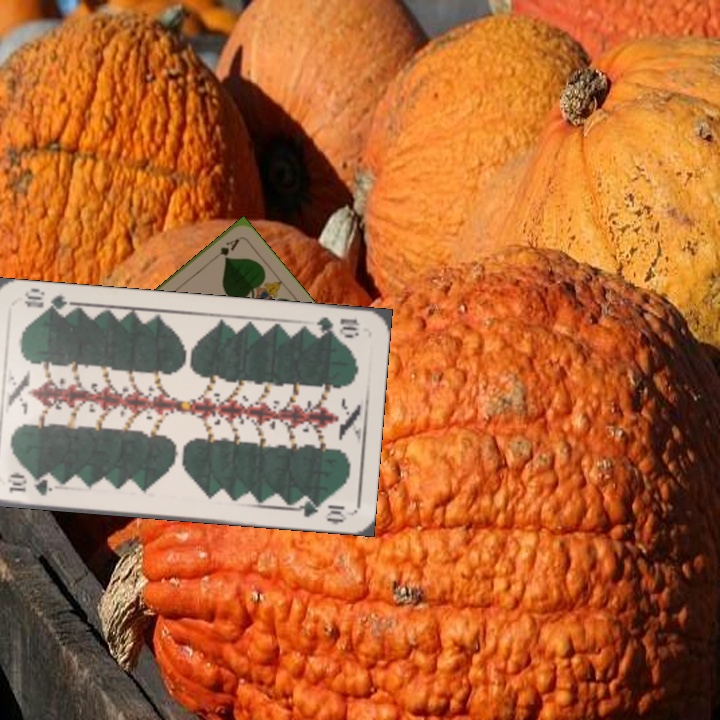G10: (312, 312, 363, 340), (3, 472, 55, 499)
GA: (208, 234, 242, 264)
